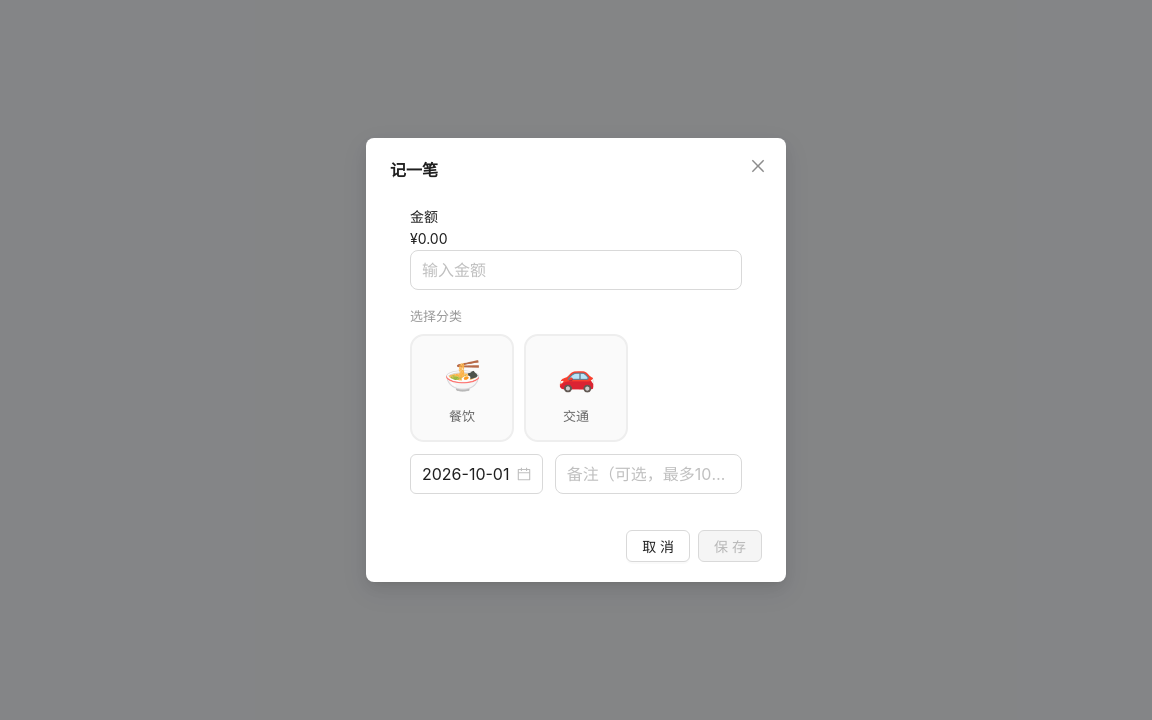
Test: AddExpenseModal 记账弹窗组件 › 切换一级分类时应该清空二级分类选择
Click the text "餐饮".
click(462, 416)  # box 449,406 -> 475,426
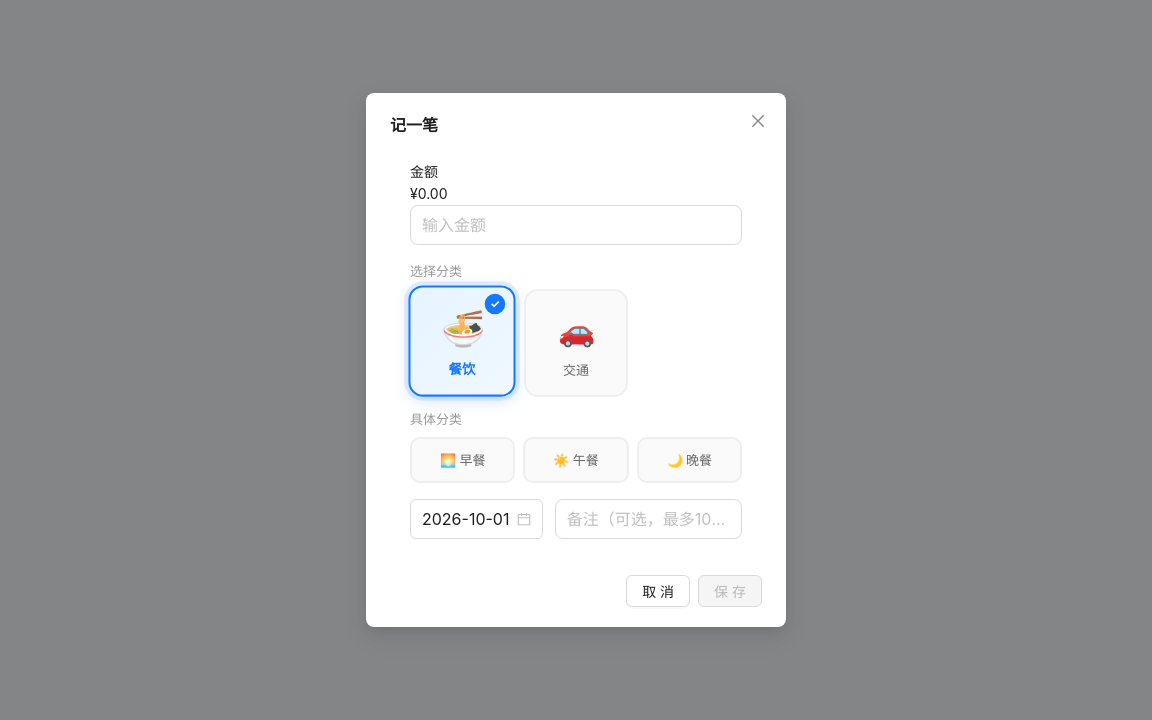
Click the text "🌅 早餐".
click(463, 460)  # box 410,437 -> 515,483
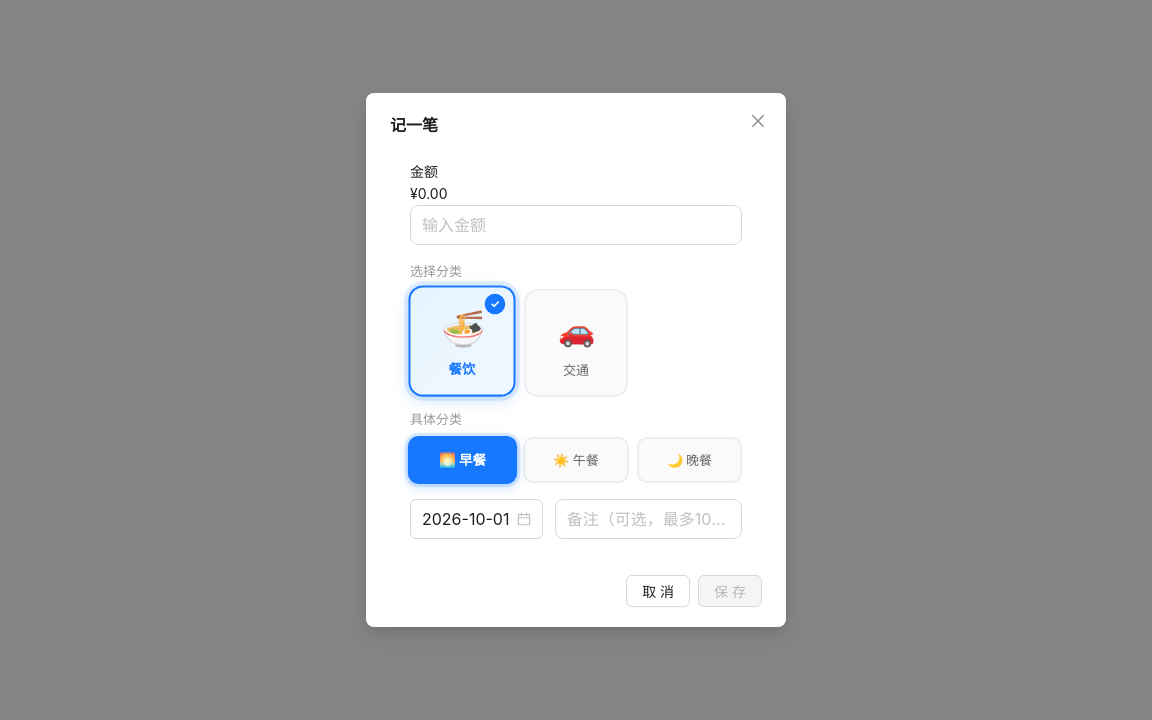
Click the text "交通".
click(576, 370)  # box 563,360 -> 589,380
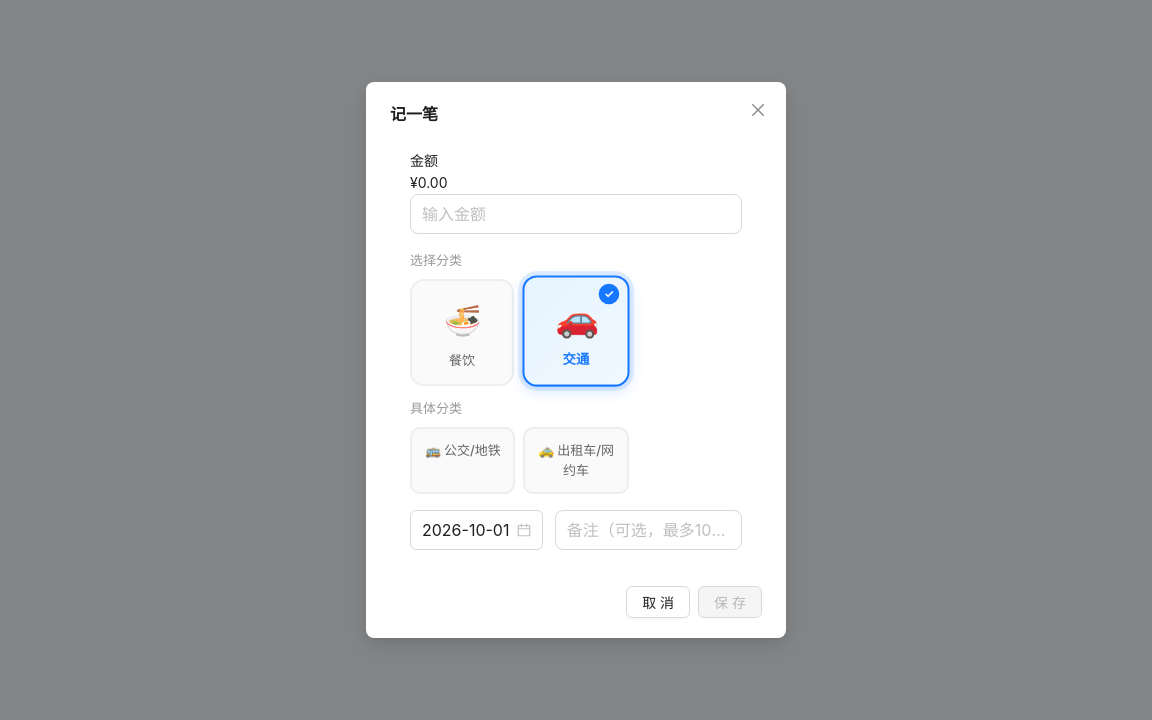
Check: the text "🚌 公交/地铁" is shown, box 410,427 -> 515,494
